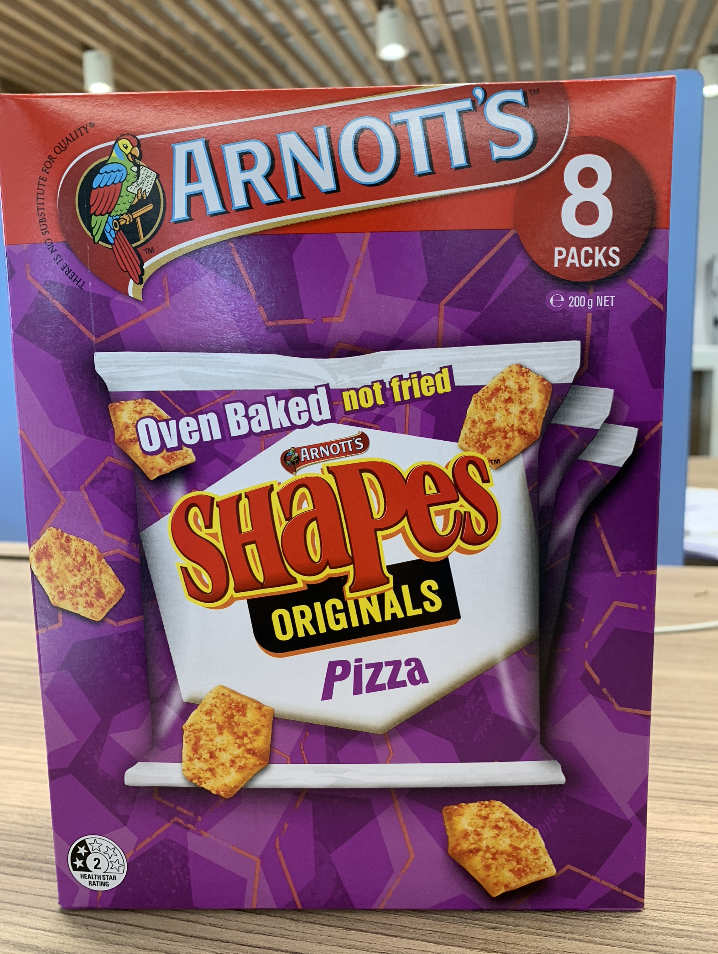crackers_150g: (55, 102, 619, 899)
